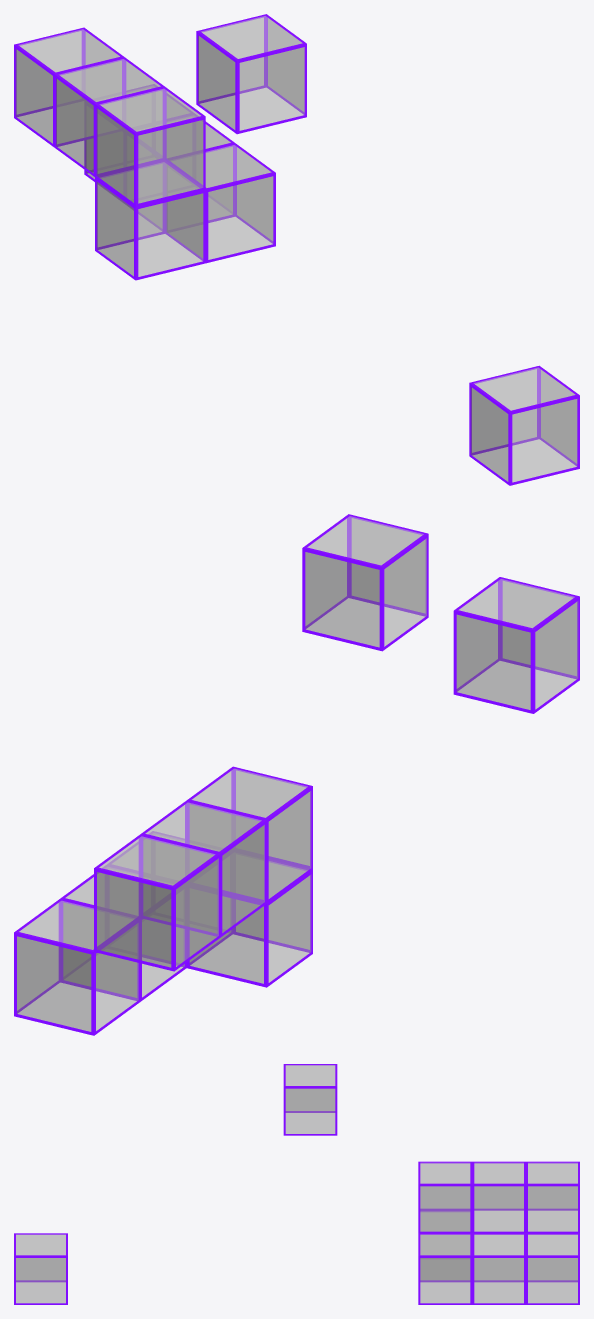
Rendered from (6)M Wall.fbx.
3 views of the same model, one above another, from view 1: azimuth 30°, elevation 25°; view 2: azimuth 150°, elevation 25°; view 3: azimuth 270°, elevation 25° (orthographic). The views are drawn at different scales.
Visible parts, largest first — view 1: Wall.011, Wall.002, Wall.012, Wall.001, Wall.007, Wall.006, Wall.005, Wall.008, Wall.009; view 2: Wall.006, Wall.011, Wall.012, Wall.009, Wall.002, Wall.007, Wall.001, Wall.008, Wall.005; view 3: Wall.002, Wall.005, Wall.011, Wall.006, Wall.007, Wall.008, Wall.009, Wall.012, Wall.001.
Boxes of the visible parts, x1=… form: Wall.011: x1=196, y1=14, x2=306, y2=134; Wall.002: x1=95, y1=87, x2=205, y2=206; Wall.012: x1=469, y1=365, x2=579, y2=485; Wall.001: x1=95, y1=160, x2=205, y2=280; Wall.007: x1=54, y1=57, x2=164, y2=176; Wall.006: x1=14, y1=27, x2=124, y2=147; Wall.005: x1=167, y1=143, x2=275, y2=263; Wall.008: x1=125, y1=114, x2=235, y2=230; Wall.009: x1=84, y1=84, x2=193, y2=202; Wall.006: x1=94, y1=834, x2=220, y2=971; Wall.011: x1=302, y1=514, x2=428, y2=651; Wall.012: x1=453, y1=577, x2=579, y2=713; Wall.009: x1=14, y1=898, x2=140, y2=1035; Wall.002: x1=186, y1=766, x2=312, y2=903; Wall.007: x1=140, y1=800, x2=266, y2=937; Wall.001: x1=186, y1=859, x2=312, y2=987; Wall.008: x1=60, y1=865, x2=186, y2=1001; Wall.005: x1=107, y1=831, x2=231, y2=966; Wall.002: x1=418, y1=1161, x2=472, y2=1233; Wall.005: x1=418, y1=1233, x2=472, y2=1304; Wall.011: x1=283, y1=1064, x2=337, y2=1135; Wall.006: x1=526, y1=1161, x2=579, y2=1233; Wall.007: x1=472, y1=1161, x2=525, y2=1233; Wall.008: x1=472, y1=1233, x2=525, y2=1304; Wall.009: x1=526, y1=1233, x2=579, y2=1304; Wall.012: x1=14, y1=1233, x2=67, y2=1304; Wall.001: x1=420, y1=1210, x2=470, y2=1282.
Size of the model in its own units: 400 by 800 by 2100.
